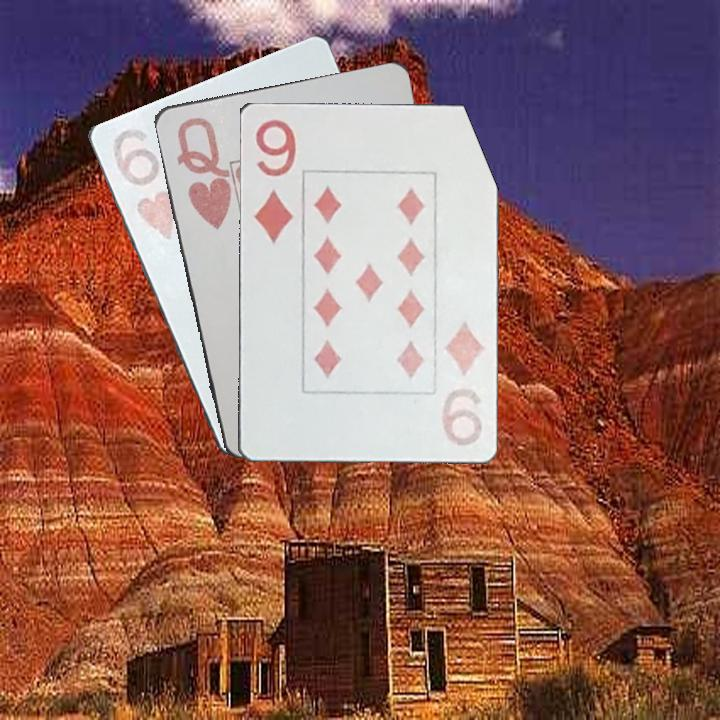6h: (104, 124, 177, 247)
9d: (437, 317, 490, 448), (248, 115, 299, 247)
Qh: (172, 113, 234, 233)
